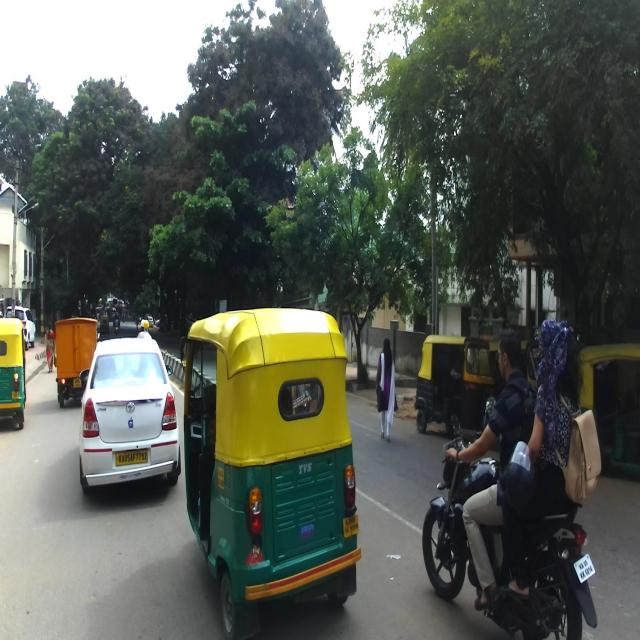autorickshaw: (173, 307, 360, 632), (412, 335, 495, 434), (578, 341, 640, 472), (487, 337, 546, 397)
car: (80, 334, 180, 492), (4, 304, 35, 351)
motorcycle: (420, 397, 602, 636)
